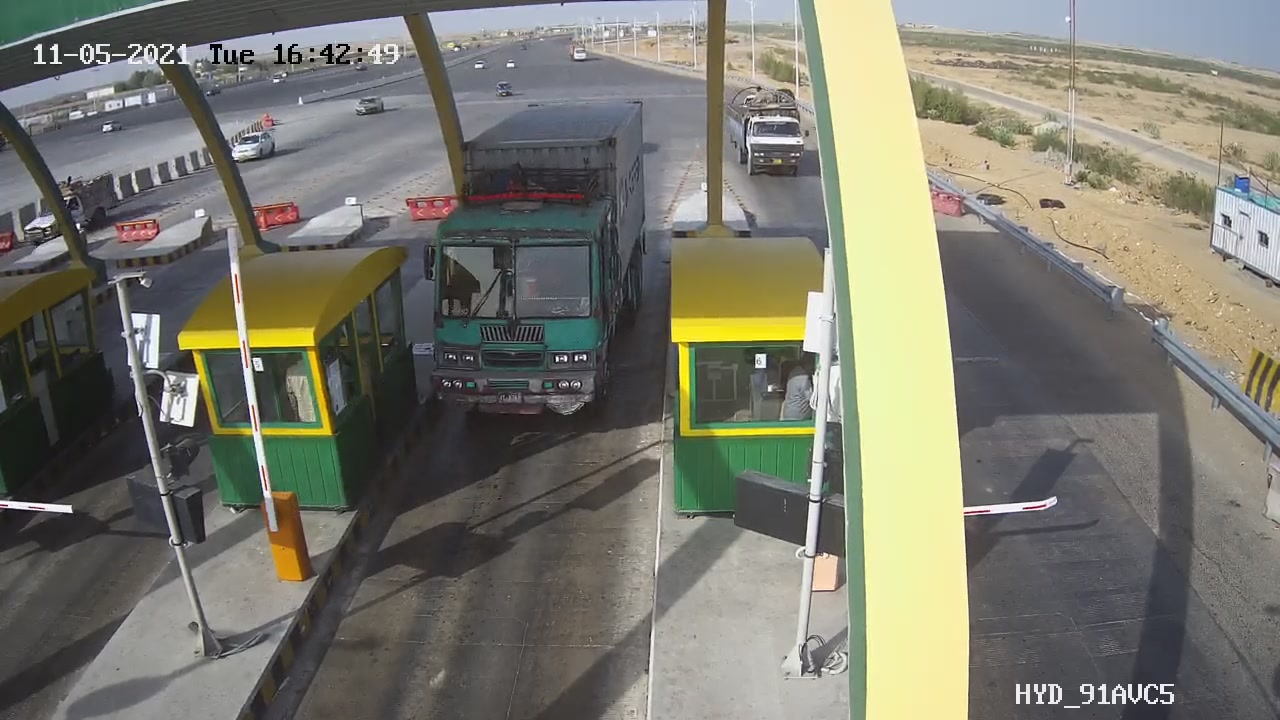F6: (401, 82, 667, 445)
